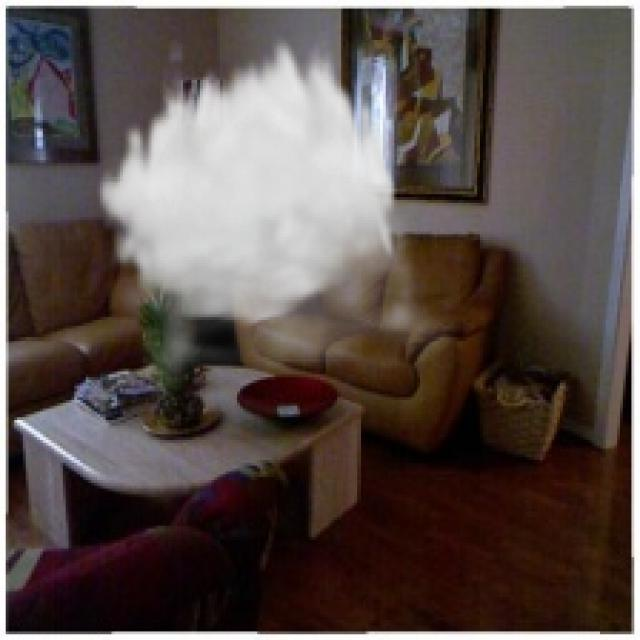Smoke: (94, 32, 463, 397)
